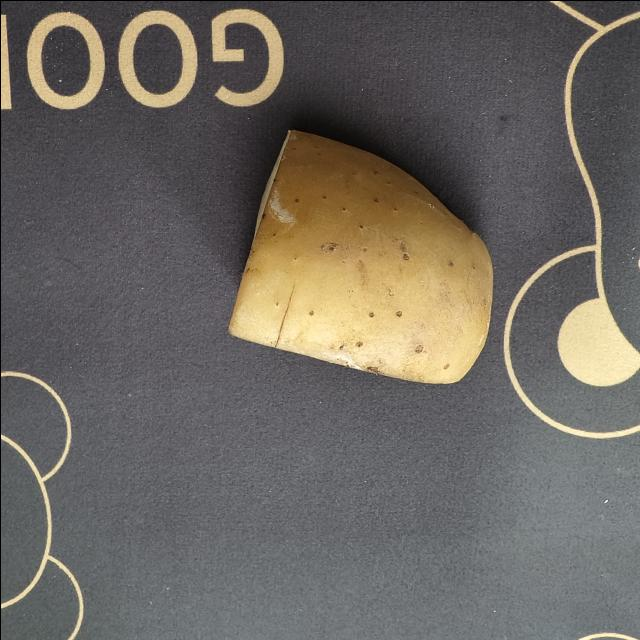-Kitchen waste - potato-: (224, 125, 498, 391)
